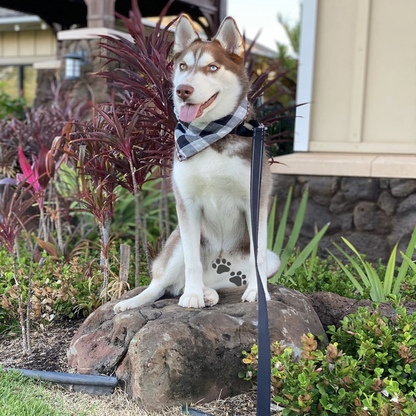husky: (110, 10, 285, 316)
